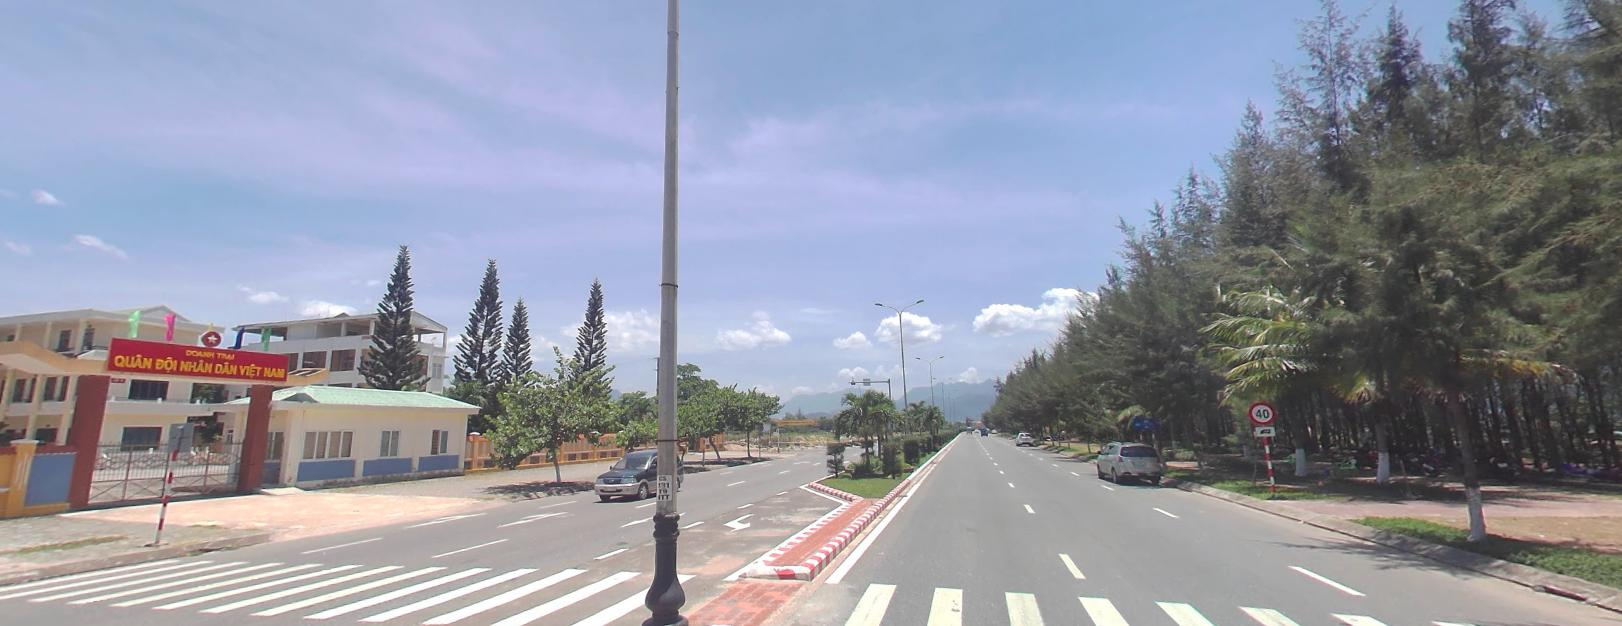Gioi han toc do: (1246, 398, 1275, 423)
